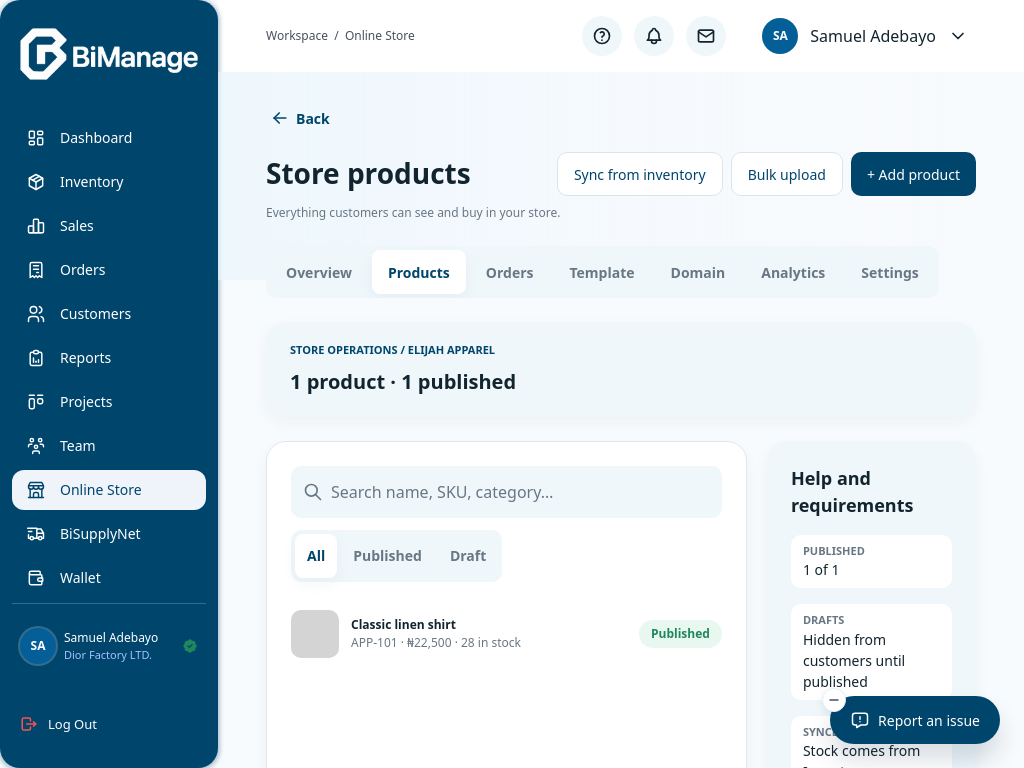
Test: merchant store › 08.03 → 08.07: catalogue lists products and opens the detail
What coordinates should you click on to do the following:
click the link "Classic linen shirt"
I would click on:
 (403, 624)
Its box is [351,616,456,632].
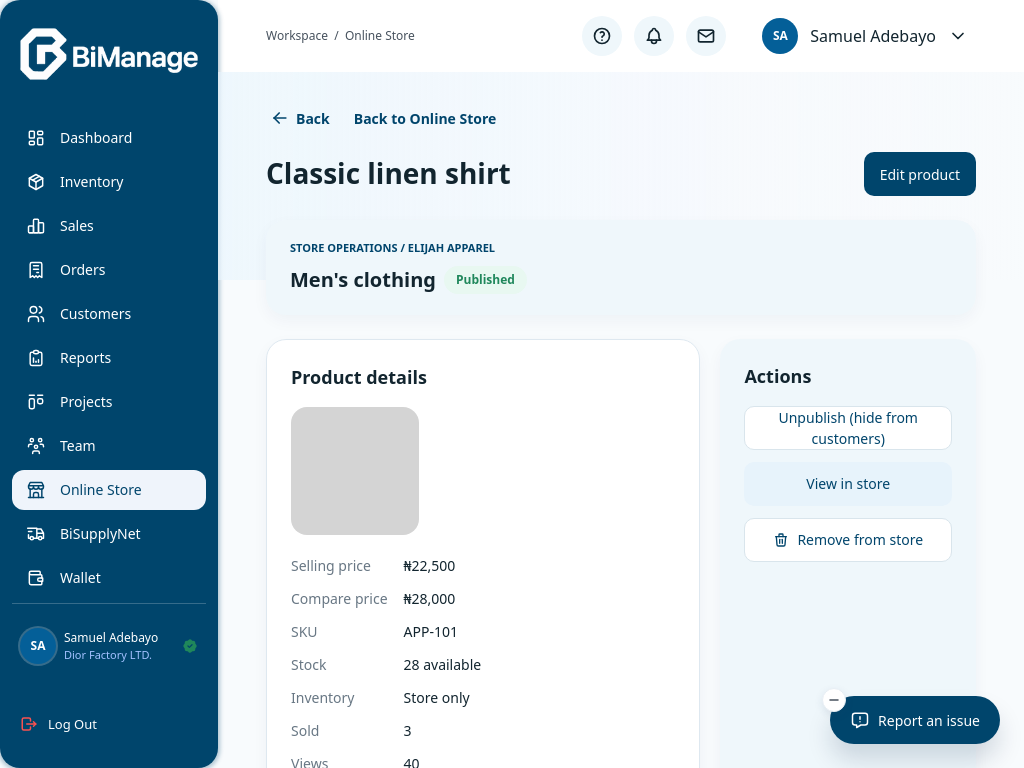
Check: the text "APP-101" is shown, box [404,622,458,640]
Check: the link with test id "back-to-screen" reads "Back to Online Store", box [354,108,496,128]
